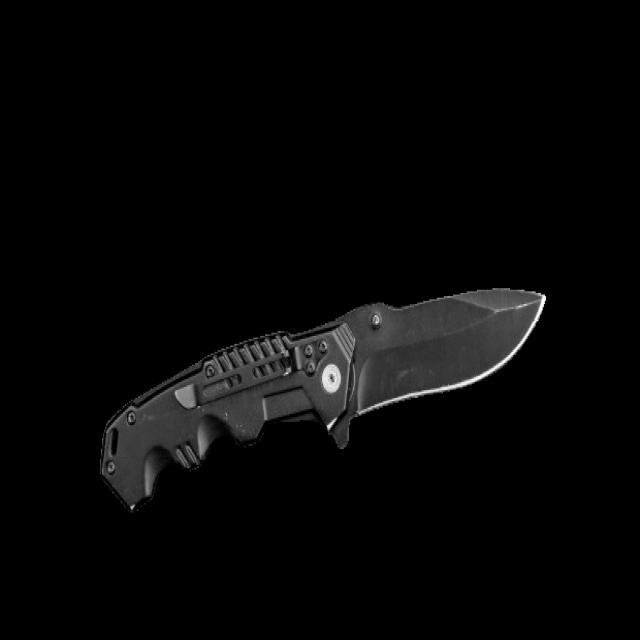knife: (101, 293, 541, 516)
